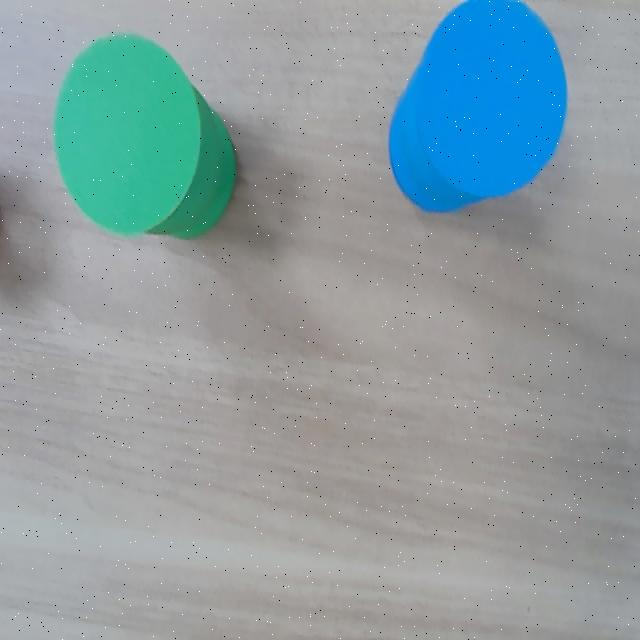g: (52, 34, 200, 236)
